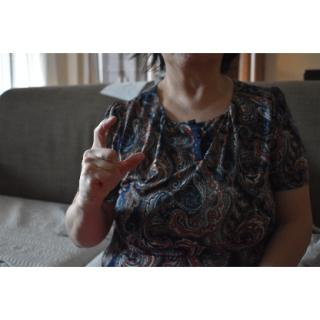DELL: (77, 112, 148, 218)
